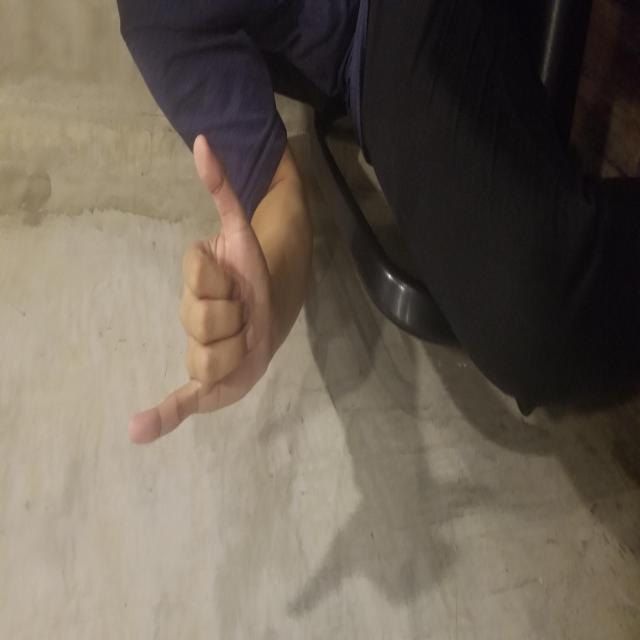Y: (196, 128, 507, 274)
